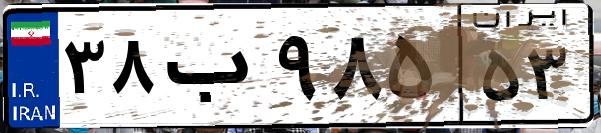3: (57, 26, 110, 100), (525, 38, 570, 115)
5: (385, 28, 445, 110), (475, 38, 525, 113)
8: (330, 28, 385, 110), (110, 28, 158, 98)
9: (270, 28, 330, 110)
ب: (158, 20, 270, 120)
